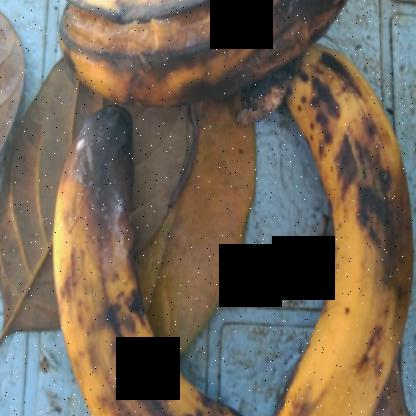overripe: (258, 30, 415, 415)
rotten: (48, 111, 222, 415), (39, 0, 374, 120)
